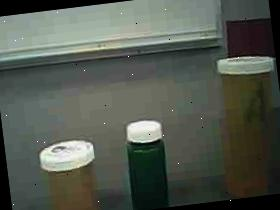Bottle A: (206, 47, 280, 200)
Bottle B: (30, 129, 110, 210)
Bottle C: (116, 108, 185, 210)
